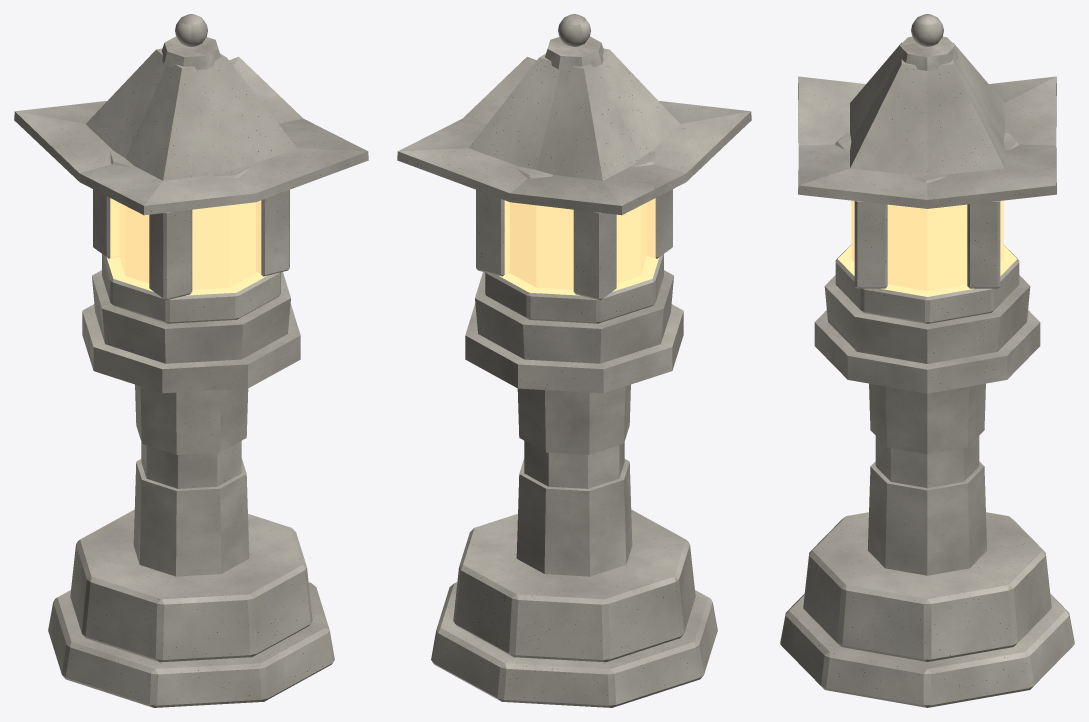
File: stone-lantern.glb
3 views of the same model, side by side, from view 1: azimuth 30°, elevation 25°; view 2: azimuth 150°, elevation 25°; view 3: azimuth 270°, elevation 25° (orthographic).
Visible parts, largest first — view 1: base, roof, lamp, shaft, platform, finial; view 2: base, roof, lamp, shaft, platform, finial; view 3: base, roof, shaft, lamp, platform, finial.
Boxes of the visible parts, x1,y1,x2,y2 form: base: [48, 510, 334, 707]; roof: [14, 48, 368, 215]; lamp: [93, 151, 289, 323]; shaft: [133, 384, 249, 576]; platform: [82, 270, 300, 393]; finial: [162, 14, 220, 69]; base: [431, 510, 717, 707]; roof: [397, 48, 751, 215]; lamp: [476, 151, 672, 323]; shaft: [516, 384, 632, 576]; platform: [465, 270, 683, 393]; finial: [545, 14, 603, 69]; base: [780, 512, 1074, 707]; roof: [798, 42, 1056, 208]; shaft: [867, 383, 987, 575]; lamp: [835, 133, 1019, 323]; platform: [814, 275, 1040, 393]; finial: [895, 14, 959, 70].
Bounding box in the file's own units: 0.4434 × 1.05 × 0.4434.
Materials: 2 (1 with a texture image).
